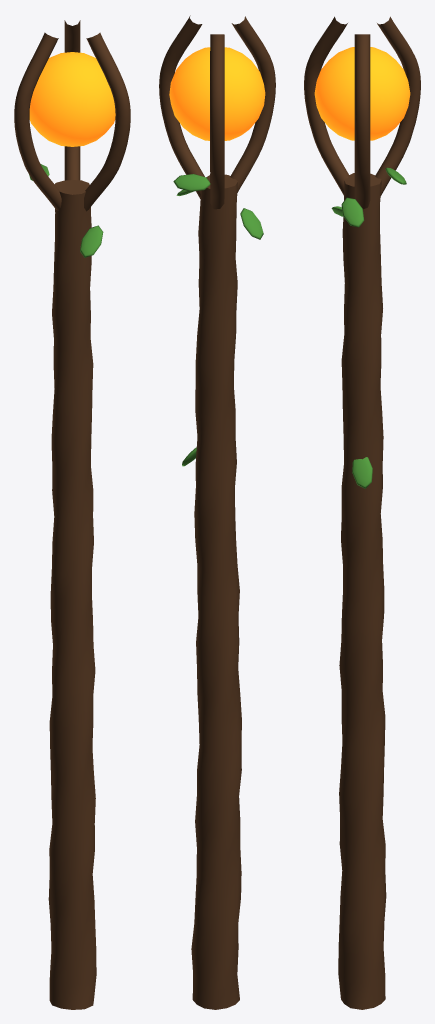
The model's file is staff_oak.glb.
The picture shows the model from 3 angles, left to right: view 1: azimuth 90°, elevation 25°; view 2: azimuth 150°, elevation 25°; view 3: azimuth 270°, elevation 25°; orthographic projection.
Visible parts, largest first — view 1: shaft, glow_orb, leaf; view 2: shaft, glow_orb, leaf; view 3: shaft, glow_orb, leaf.
Boxes of the visible parts, x1,y1,x2,y2 form: shaft: (14, 20, 130, 1009); glow_orb: (29, 52, 115, 146); leaf: (29, 164, 103, 257); shaft: (159, 15, 275, 1009); glow_orb: (169, 47, 265, 140); leaf: (173, 174, 263, 466); shaft: (304, 16, 420, 1009); glow_orb: (314, 47, 410, 140); leaf: (331, 167, 406, 488).
Bounding box in the file's own units: 0.1191 × 1.12 × 0.1218.
